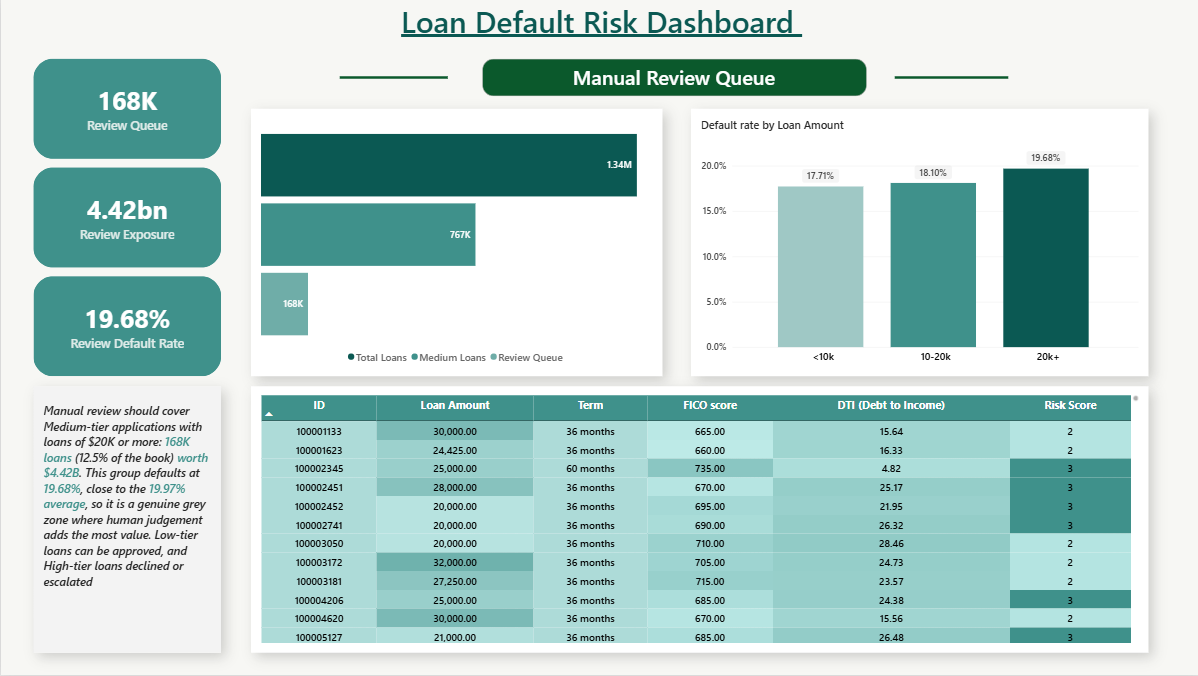

This screenshot's page, from the dashboard's own definition file:
{"tool":"powerbi","page":{"name":"Review Queue ","canvas":[1920,1080],"ordinal":2},"visuals":[{"type":"cardVisual","fields":{"Data":["public loan_scored.Review Queue"]},"box":[52,94,300,160],"z":0,"group":"g1"},{"type":"shape","box":[52,618,300,426],"z":0},{"type":"textbox","box":[430,0,1062,74],"z":1000},{"type":"cardVisual","fields":{"Data":["public loan_scored.Review Exposure"]},"box":[52,268,300,160],"z":1000,"group":"g1"},{"type":"group","id":"g1","title":"Group 1","box":[52,94,300,508],"z":2000},{"type":"cardVisual","fields":{"Data":["public loan_scored.Review Default Rate"]},"box":[52,442,300,160],"z":2000,"group":"g1"},{"type":"textbox","box":[68,644,266,380],"z":3000},{"type":"clusteredBarChart","title":"Default Rate by FICO score","fields":{"Y":["public loan_scored.Total Loans","public loan_scored.Medium Loans","public loan_scored.Review Queue"]},"box":[400,174,658,428],"z":4000},{"type":"shape","box":[769.3,94,615.3,60],"z":5000,"group":"g2"},{"type":"clusteredColumnChart","fields":{"Category":["public loan_scored.loan_band"],"Y":["public loan_scored.Default Rate"]},"box":[1104,174,732,428],"z":5000},{"type":"textbox","box":[810.2,102.2,533.5,45.5],"z":6000,"group":"g2"},{"type":"tableEx","title":"Highest-exposure applications in the review queue","fields":{"Values":["public loan_scored.id","Sum(public loan_scored.loan_amnt)","public loan_scored.term","Sum(public loan_scored.fico_low)","Sum(public loan_scored.dti)","Sum(public loan_scored.risk_score)"]},"box":[400,618,1436,426],"z":6000},{"type":"shape","box":[542,94,172.8,60],"z":7000,"group":"g2"},{"type":"group","id":"g2","title":"Group 2","box":[542,94,1070,58],"z":7000},{"type":"shape","box":[1430.1,94,181.9,60],"z":8000,"group":"g2"}]}

Visuals, with their boxes in screenshot pixels (x1, y1, x2, y2), scaled from the page's 1920x1080 canvas onto the 1198x676 screenshot:
cardVisual - public loan_scored.Review Queue: 32, 59, 220, 159
shape: 32, 387, 220, 653
textbox: 268, 0, 931, 46
cardVisual - public loan_scored.Review Exposure: 32, 168, 220, 268
"Group 1" group: 32, 59, 220, 377
cardVisual - public loan_scored.Review Default Rate: 32, 277, 220, 377
textbox: 42, 403, 208, 641
"Default Rate by FICO score" clusteredBarChart: 250, 109, 660, 377
shape: 480, 59, 864, 96
clusteredColumnChart - public loan_scored.loan_band x public loan_scored.Default Rate: 689, 109, 1146, 377
textbox: 506, 64, 838, 92
"Highest-exposure applications in the review queue" tableEx: 250, 387, 1146, 653
shape: 338, 59, 446, 96
"Group 2" group: 338, 59, 1006, 95
shape: 892, 59, 1006, 96
